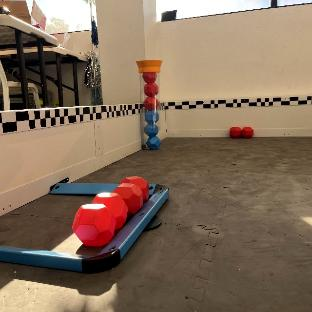V5_BLUE: (144, 110, 159, 148)
V5_RED: (74, 177, 148, 246), (144, 74, 158, 109), (242, 127, 254, 138), (230, 127, 241, 138)
